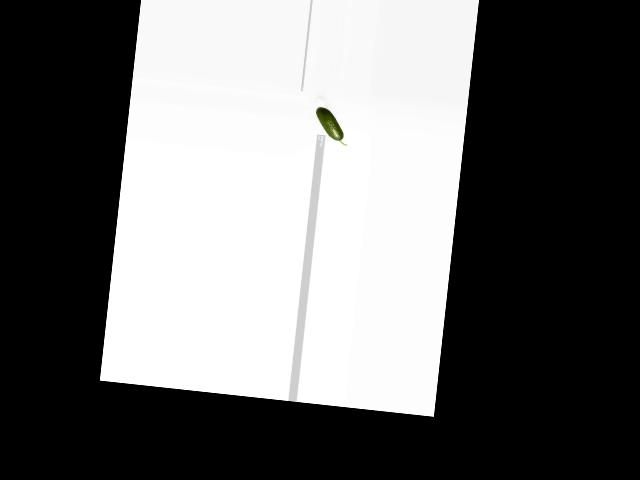cucumber: (312, 107, 350, 146)
